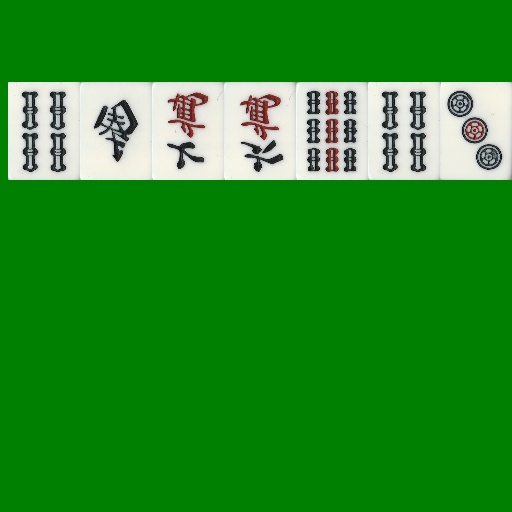3p: (440, 82, 512, 180)
4s: (8, 82, 80, 180), (368, 82, 440, 180)
6m: (224, 82, 296, 180)
7m: (152, 82, 224, 180)
9s: (296, 82, 368, 180)
south: (80, 82, 152, 180)
